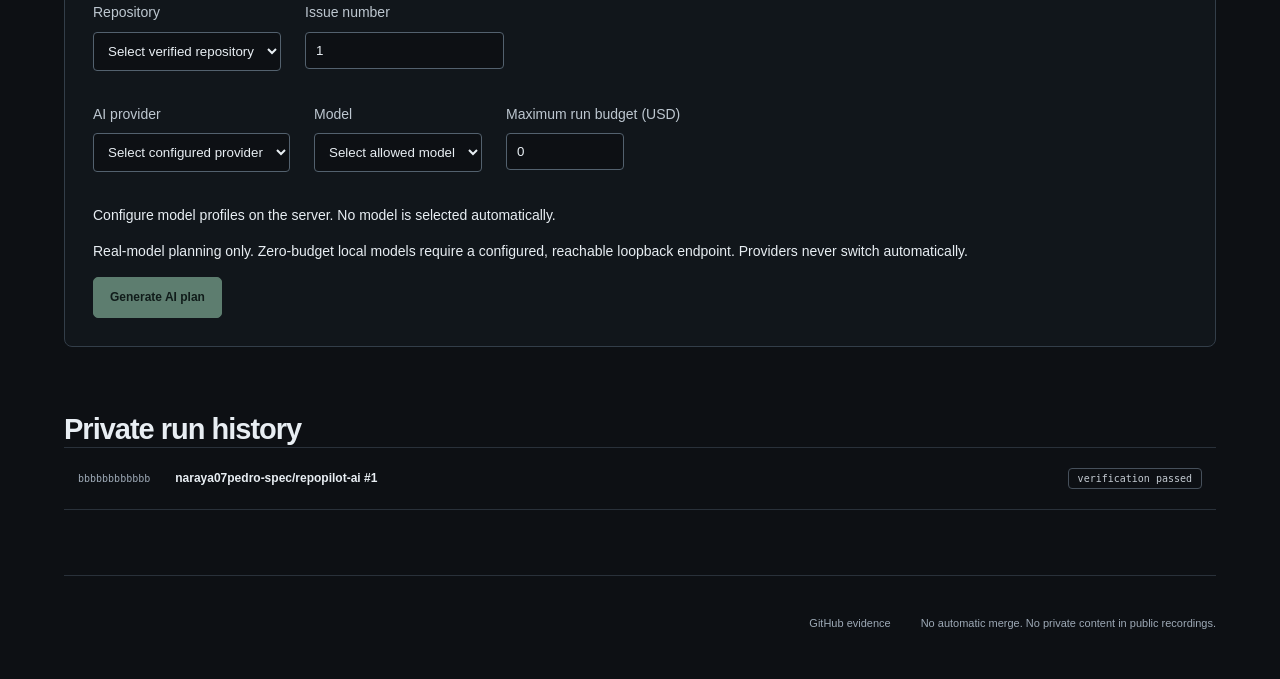
saved worker evidence and publication preview do not unlock execution
This screenshot has width=1280, height=679.
(page scrolled)
Click the button "naraya07pedro-spec": coordinates (114, 478) [64,448,1216,510]
(page scrolled)
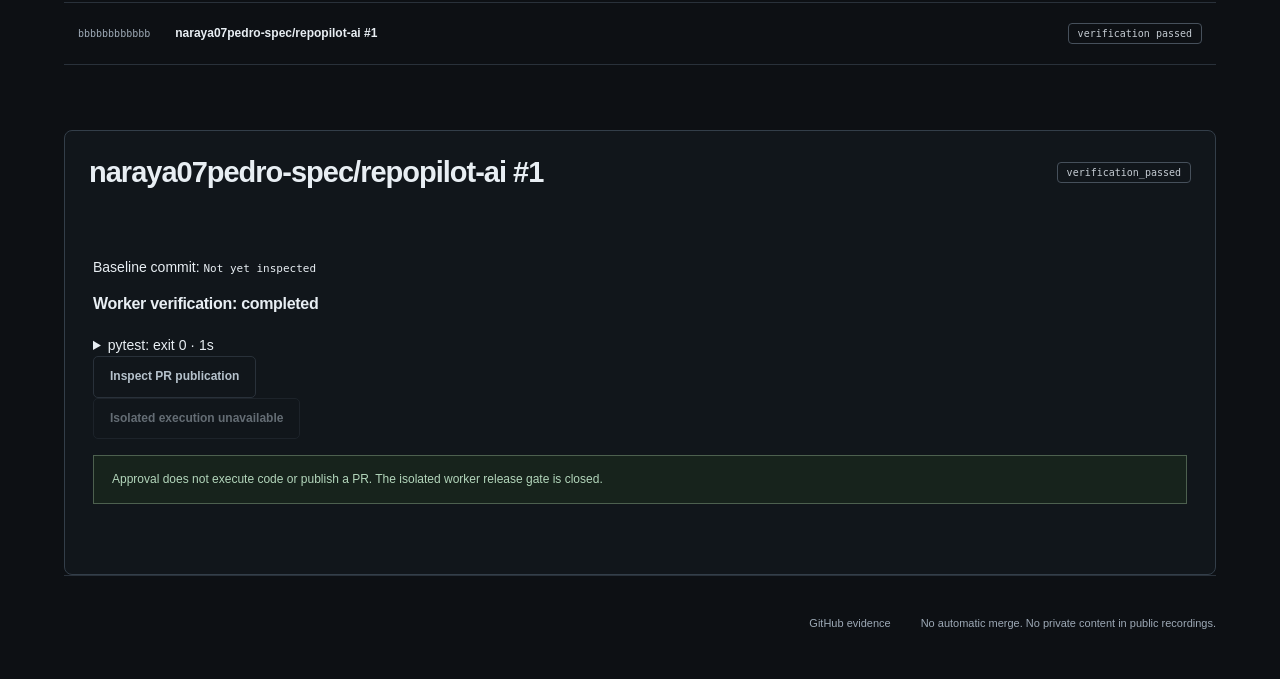
Click the button "Inspect PR publication": coordinates (175, 377) [93,356,256,398]
(page scrolled)
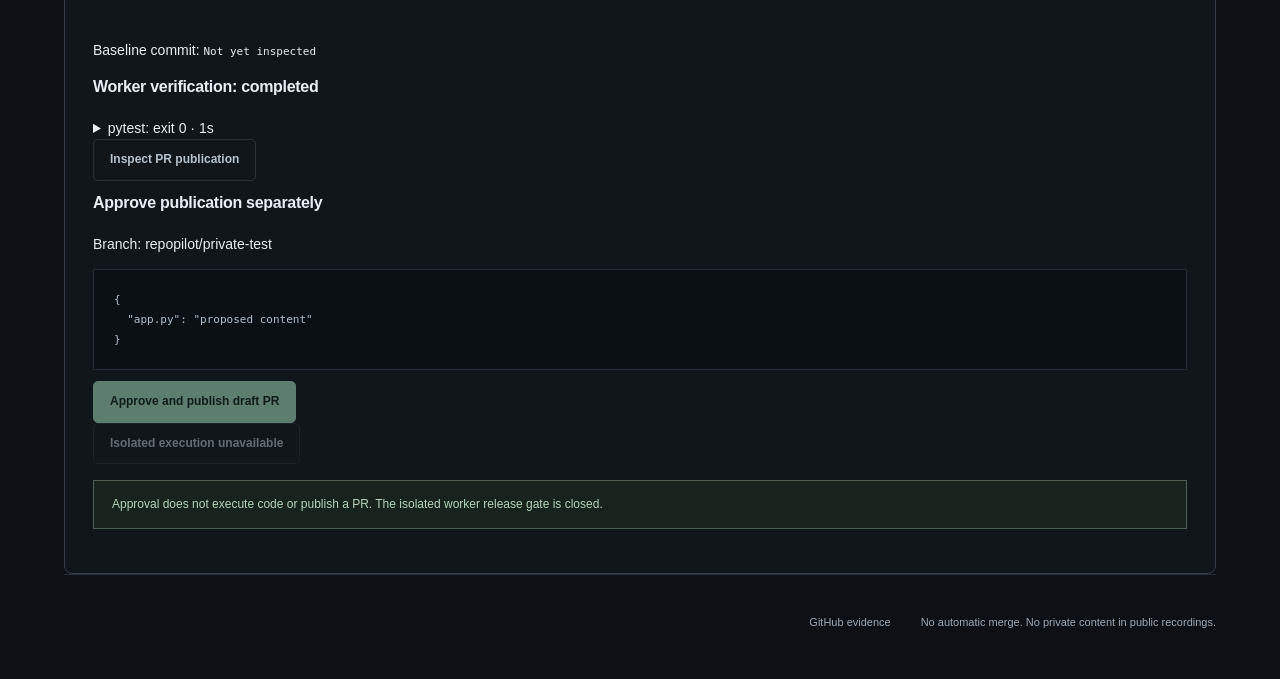
Expected: the element "Worker verification" shows "pytest: exit 0", [93,78,318,136]
Expected: the element named "Publication approval" is shown, [93,191,1187,423]
Expected: the button "Approve and publish draft PR" is disabled, [93,381,296,423]
